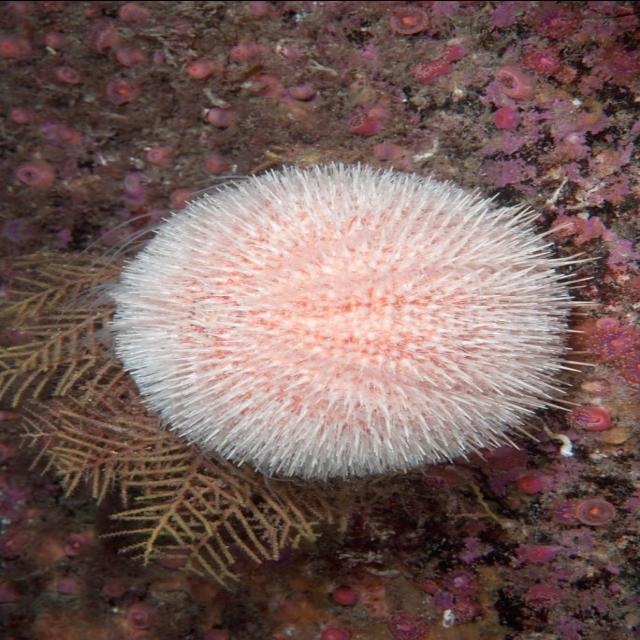Deniz Kestanesi: (54, 158, 601, 480)
